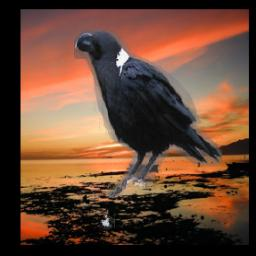Crow: (74, 30, 222, 198)
Woodpecker: (101, 211, 116, 230)
